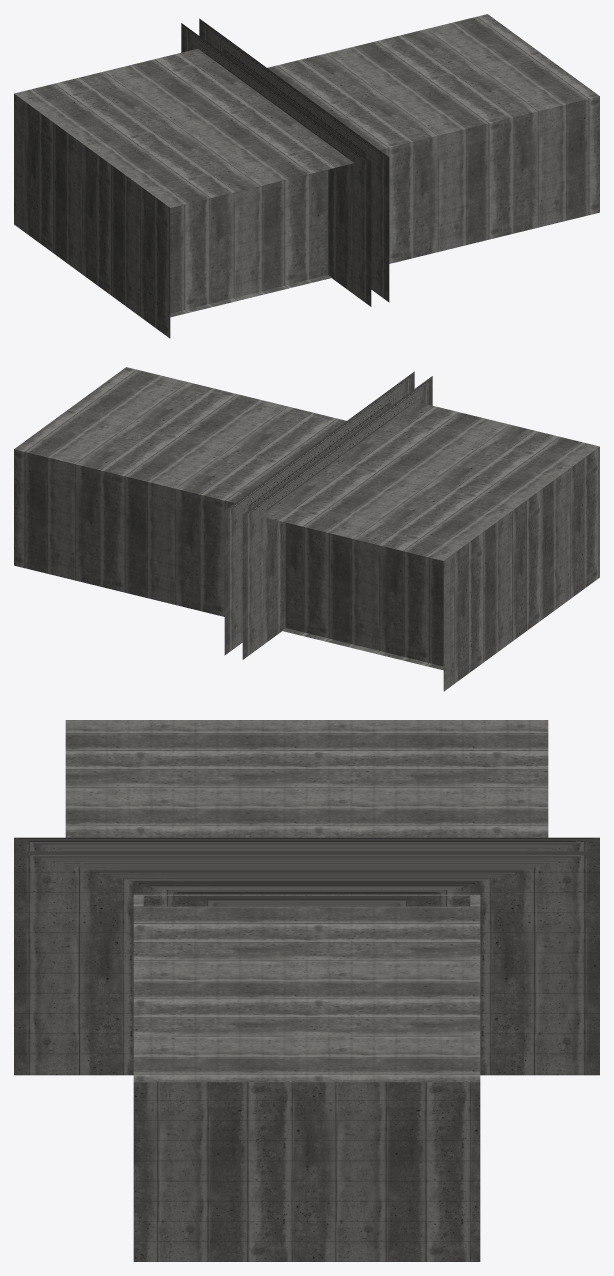
3 renders of one model, top to bottom at view 1: azimuth 30°, elevation 25°; view 2: azimuth 150°, elevation 25°; view 3: azimuth 270°, elevation 25°, orthographic. The views are drawn at different scales.
Visible parts, largest first — view 1: chamberCeiling, wallLeft, ceiling, chamberBack, chamberLeft, wallMain, floor; view 2: chamberCeiling, wallRight, ceiling, chamberBack, chamberRight, wallMain, floor; view 3: wallMain, wallBack, ceiling, chamberCeiling.
Part boxes in pixels (left/top/right/bottom): chamberCeiling: left=14, top=48, right=353, bottom=207; wallLeft: left=379, top=96, right=599, bottom=263; ceiling: left=267, top=14, right=599, bottom=149; chamberBack: left=14, top=94, right=170, bottom=338; chamberLeft: left=170, top=169, right=328, bottom=313; wallMain: left=181, top=18, right=389, bottom=306; floor: left=170, top=275, right=331, bottom=317; chamberCeiling: left=260, top=401, right=599, bottom=560; wallRight: left=14, top=449, right=234, bottom=616; ceiling: left=14, top=367, right=346, bottom=502; chamberBack: left=443, top=447, right=599, bottom=691; chamberRight: left=285, top=522, right=443, bottom=666; wallMain: left=224, top=371, right=432, bottom=659; floor: left=282, top=628, right=443, bottom=670; wallMain: left=14, top=837, right=599, bottom=1075; wallBack: left=133, top=1082, right=480, bottom=1261; ceiling: left=133, top=894, right=480, bottom=1082; chamberCeiling: left=65, top=720, right=548, bottom=837.
Bounding box in the file's own units: 32.5 × 9.99 × 23.68.
Materials: 3 (1 with a texture image).
